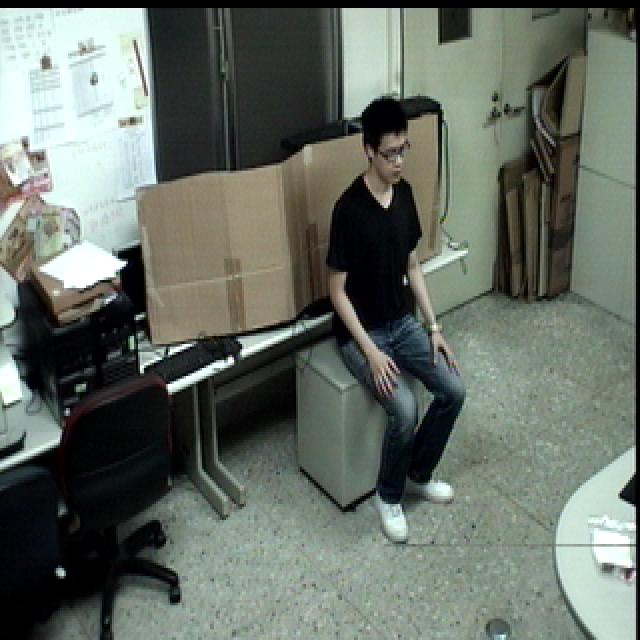sit: (319, 91, 476, 556)
